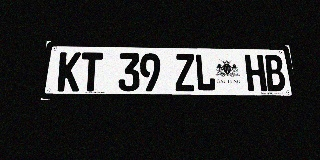3: (118, 53, 140, 91)
9: (140, 53, 161, 91)
B: (263, 55, 286, 91)
H: (244, 55, 267, 91)
K: (57, 52, 81, 91)
L: (194, 54, 216, 91)
T: (80, 52, 103, 91)
Z: (174, 54, 196, 91)
